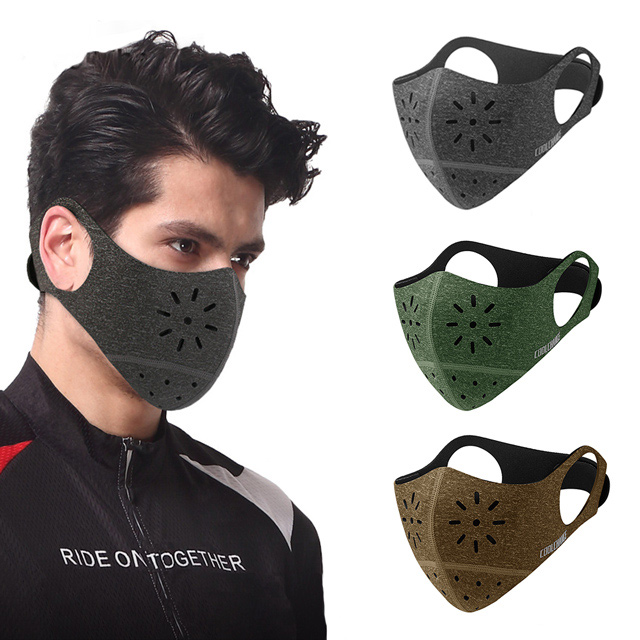Mask: (73, 139, 270, 417)
